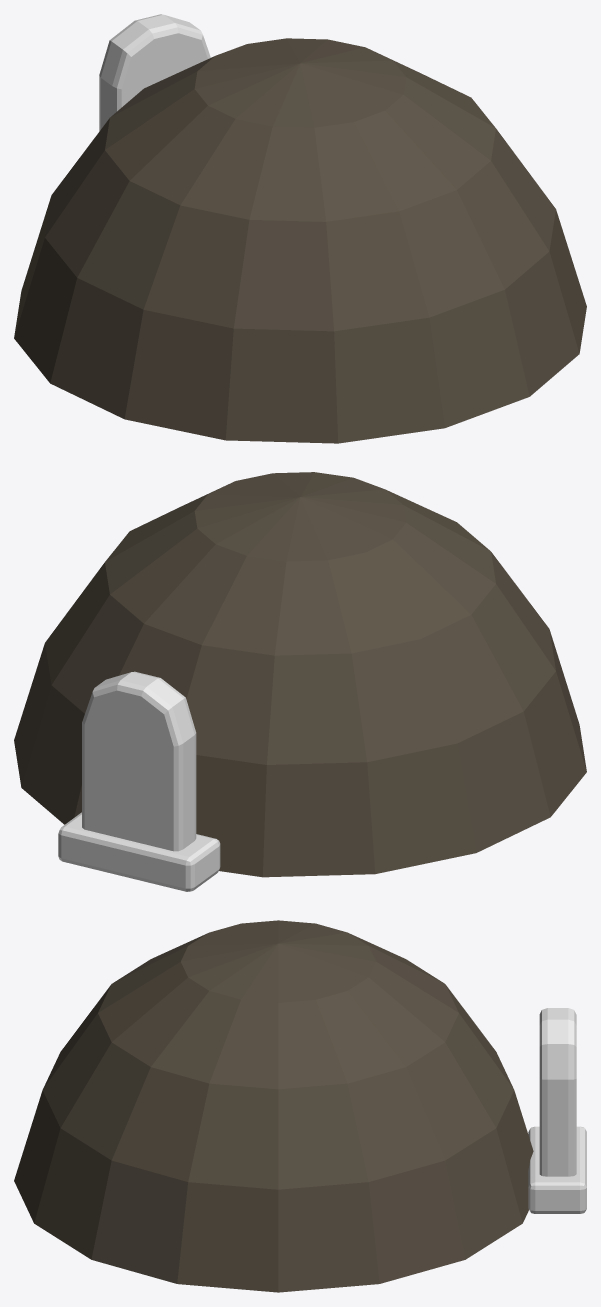
The model's file is tomb.fbx.
3 renders of one model, top to bottom at view 1: azimuth 30°, elevation 25°; view 2: azimuth 150°, elevation 25°; view 3: azimuth 270°, elevation 25°, orthographic. The views are drawn at different scales.
Visible parts, largest first — view 1: Plane; view 2: Plane; view 3: Plane.
Part boxes in pixels (<box>): Plane: <box>14,14,586,443</box>; Plane: <box>14,472,586,891</box>; Plane: <box>14,920,586,1292</box>.
Bounding box in the file's own units: 355 × 177 × 385.
